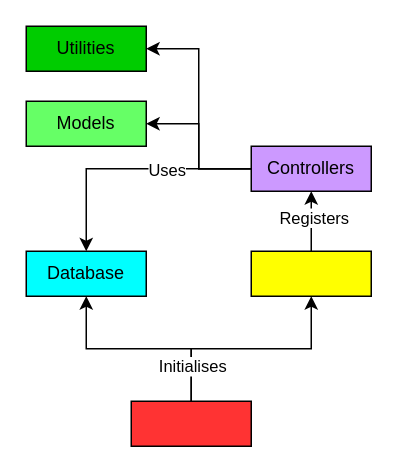
Image size: 398x473. Some labels were removed from this diagram. The shapes that lost their labels are listed below. From the top down, each one's centre as x and y in pixels, then its label:
the point at 310,273: Handlers
the point at 190,423: Main
